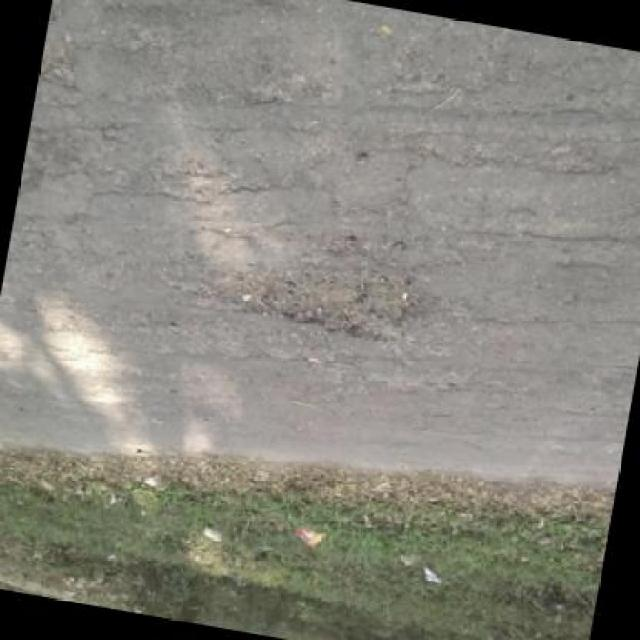pothole1: (203, 231, 437, 351)
